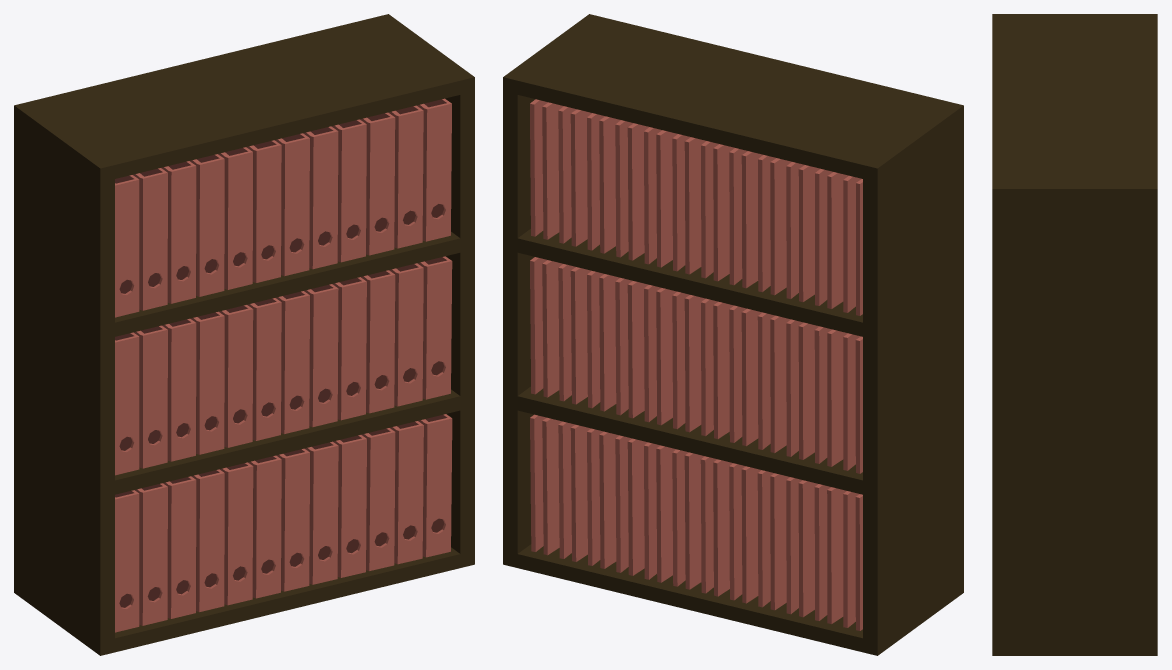
Rendered from ShelfWithFolders.glb.
3 renders of one model, left to right at view 1: azimuth 30°, elevation 25°; view 2: azimuth 150°, elevation 25°; view 3: azimuth 270°, elevation 25°, orthographic. The views are drawn at different scales.
Parts seen in each view (by area): view 1: Folder, Shelf; view 2: Folder, Shelf; view 3: Shelf.
Part boxes in pixels (x1,y1,x2,y2): Folder: [115, 98, 452, 632]; Shelf: [14, 14, 474, 655]; Folder: [530, 99, 862, 630]; Shelf: [503, 14, 963, 655]; Shelf: [992, 14, 1157, 655].
Bounding box in the file's own units: 1.69 × 2.1 × 0.6737.
